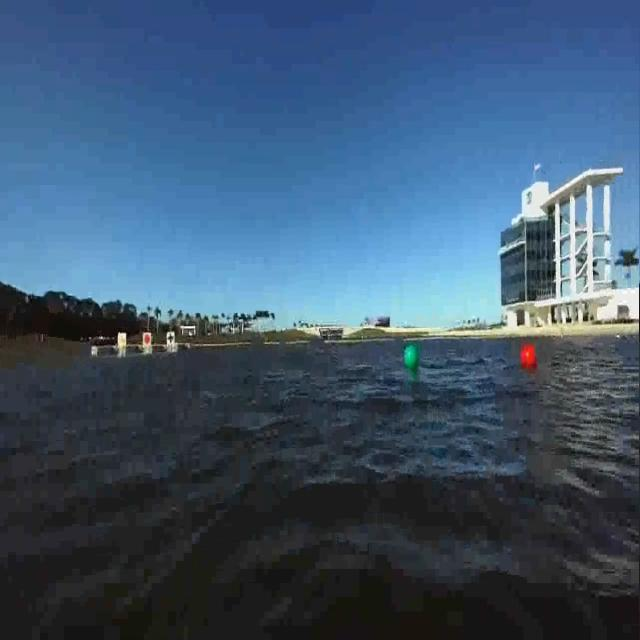green-buoy: (406, 344, 420, 370)
red-buoy: (522, 344, 540, 374)
